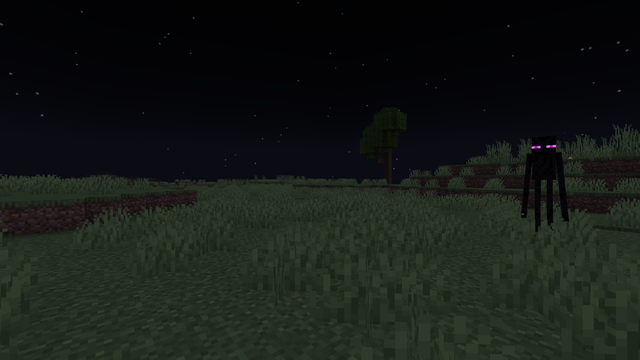endermens: (527, 131, 559, 240)
